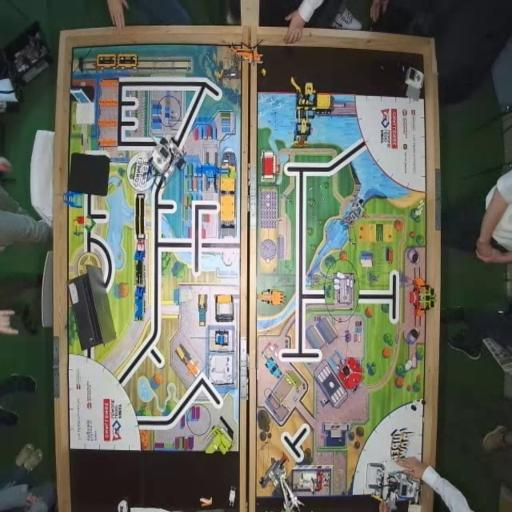lego_robot: (366, 463, 422, 511), (145, 135, 187, 191)
